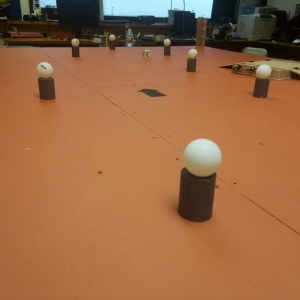blockC: (141, 49, 152, 59)
corner: (196, 18, 205, 45)
obstacle: (180, 139, 219, 224), (36, 63, 55, 99), (254, 65, 270, 98), (187, 49, 199, 72), (71, 38, 79, 58), (162, 39, 170, 54), (108, 35, 115, 48)
side: (232, 64, 258, 76)
start: (138, 85, 166, 99)
